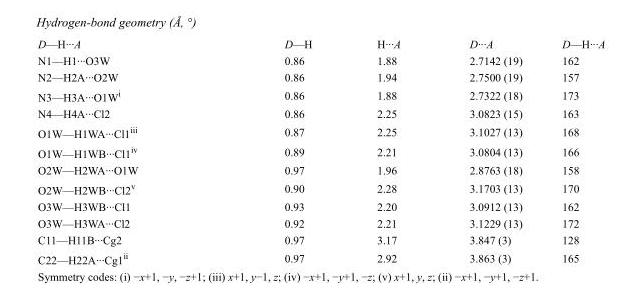table: (37, 37, 604, 265)
table column: (37, 37, 210, 265), (210, 37, 343, 265), (434, 37, 541, 265), (343, 37, 434, 265), (541, 37, 604, 265)
table row: (37, 121, 604, 141), (37, 141, 604, 161), (37, 85, 604, 104), (37, 178, 604, 197), (37, 51, 604, 68), (37, 68, 604, 85), (37, 104, 604, 121), (37, 161, 604, 178), (37, 197, 604, 214), (37, 214, 604, 231), (37, 231, 604, 248), (37, 248, 604, 265), (37, 37, 604, 51)
